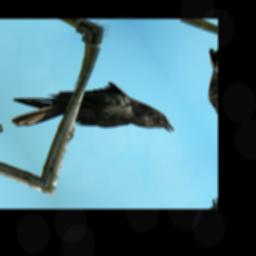Crow: (0, 59, 177, 175)
